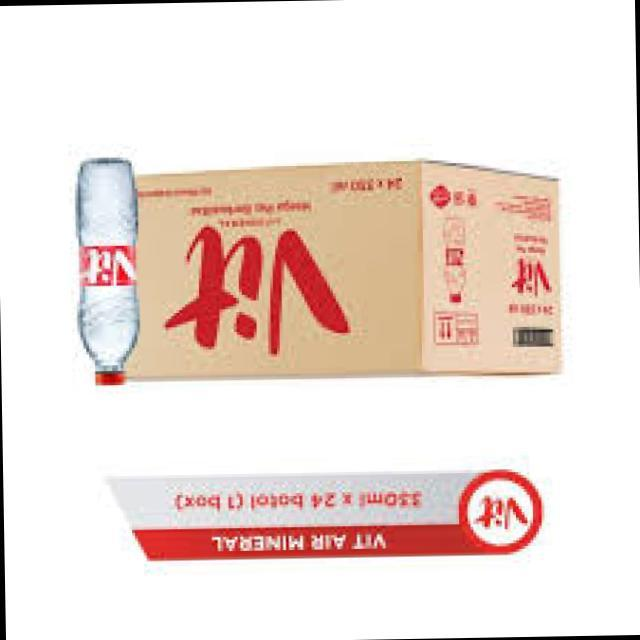good: (68, 154, 142, 386)
